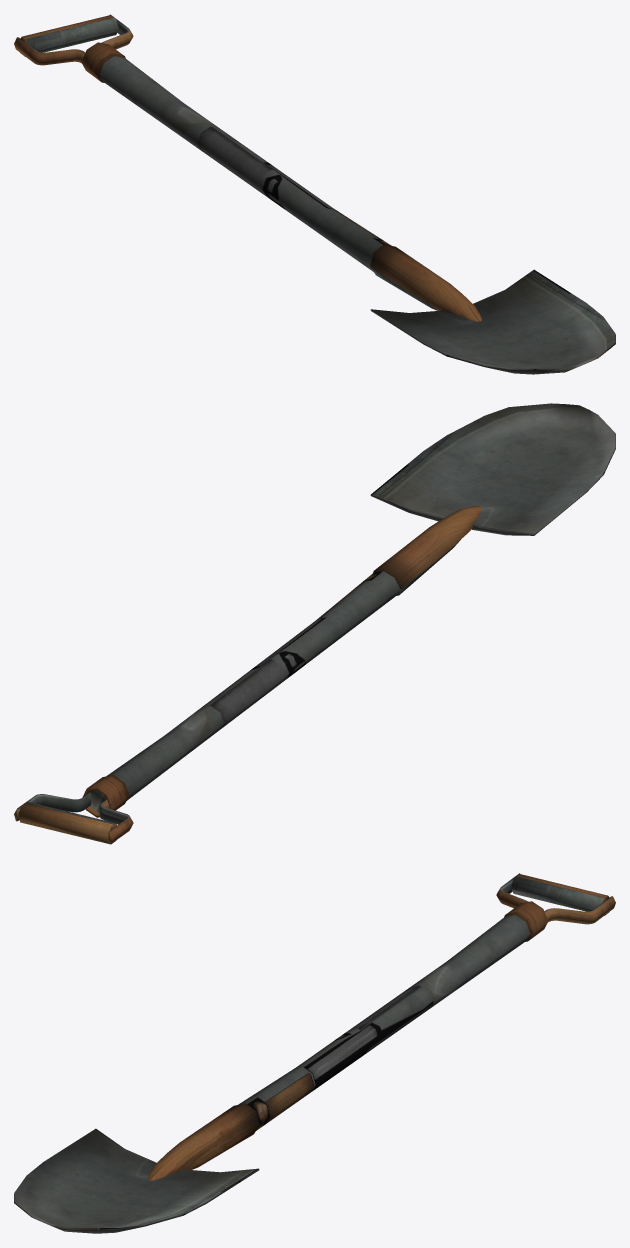
File: Shovel.glb
3 renders of one model, top to bottom at view 1: azimuth 30°, elevation 25°; view 2: azimuth 150°, elevation 25°; view 3: azimuth 330°, elevation 25°, orthographic.
Visible parts, largest first — view 1: Shovel; view 2: Shovel; view 3: Shovel.
Boxes of the visible parts, x1,y1,x2,y2 form: Shovel: [14, 14, 615, 374]; Shovel: [14, 403, 615, 844]; Shovel: [14, 873, 615, 1233].
Size of the model in its own units: 2.76 by 0.9603 by 15.07.
Materials: 1 (1 with a texture image).
